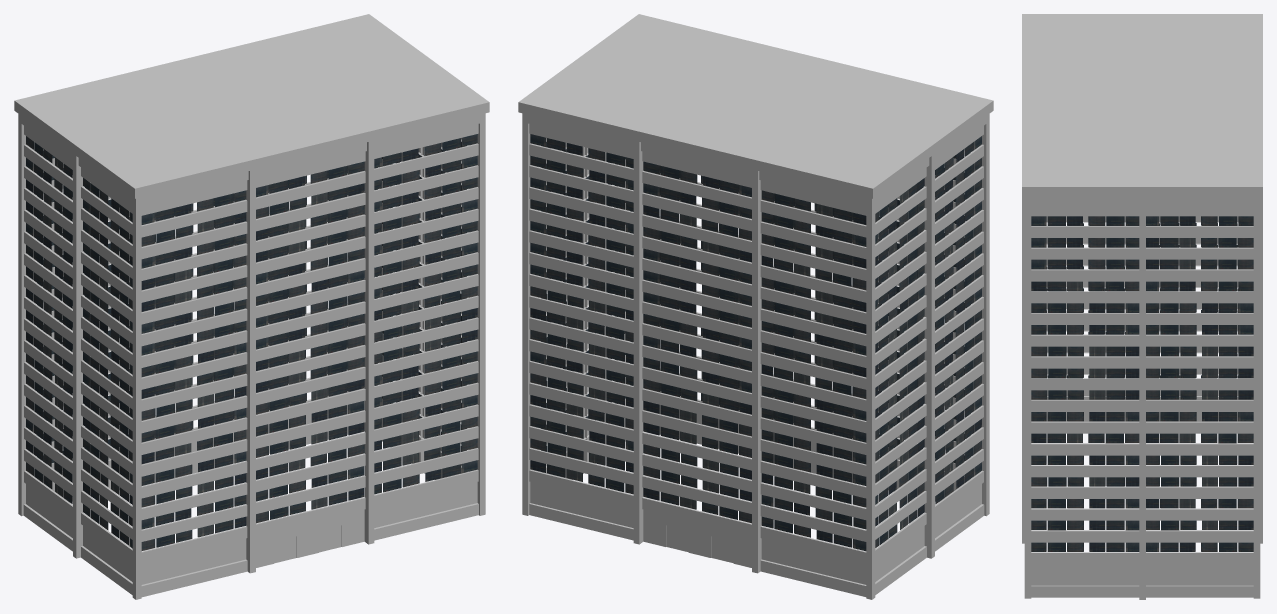
3 views of the same model, side by side, from view 1: azimuth 30°, elevation 25°; view 2: azimuth 150°, elevation 25°; view 3: azimuth 270°, elevation 25° (orthographic).
Parts seen in each view (by area): view 1: M-022; view 2: M-022; view 3: M-022.
Part boxes in pixels (left/top/right/bottom): M-022: left=14, top=14, right=489, bottom=599; M-022: left=518, top=14, right=993, bottom=599; M-022: left=1022, top=14, right=1262, bottom=599.
Size of what is drawn, in the model's own units: 43.78 by 48.7 by 25.76.
